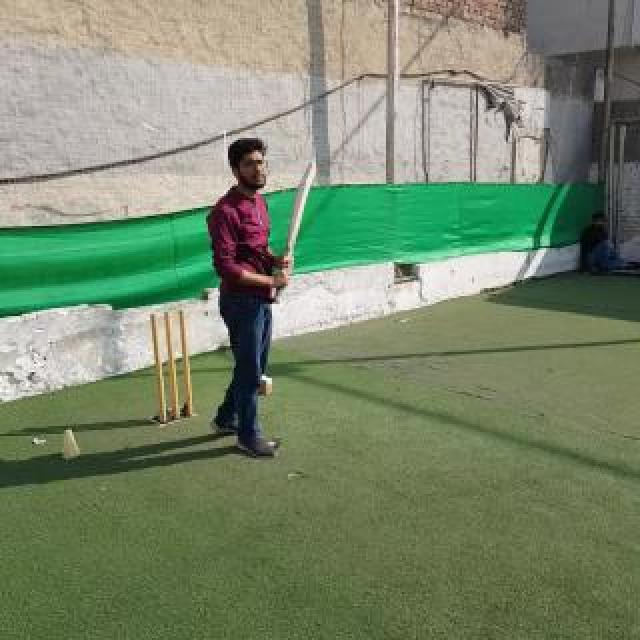bat: (274, 160, 316, 304)
